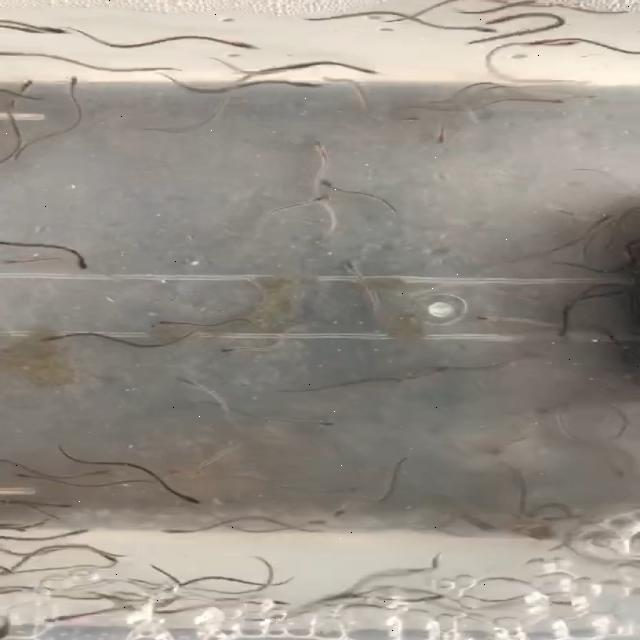active_glass_eel: (205, 32, 262, 54), (341, 62, 388, 81), (28, 22, 72, 38), (451, 20, 496, 35), (10, 74, 34, 102), (476, 12, 524, 26), (534, 36, 580, 50), (565, 90, 603, 106), (57, 76, 85, 96), (280, 78, 330, 89), (381, 112, 420, 126), (424, 126, 450, 146), (41, 330, 80, 343), (222, 344, 264, 356), (314, 178, 346, 193), (42, 612, 82, 624), (307, 137, 329, 158), (175, 375, 207, 389), (68, 255, 92, 272), (299, 416, 333, 428), (300, 194, 337, 205), (167, 469, 200, 481), (164, 527, 200, 538), (588, 213, 614, 228), (175, 492, 202, 506), (552, 204, 579, 218), (144, 317, 178, 328), (339, 260, 365, 274), (7, 522, 33, 536), (310, 518, 340, 530), (88, 467, 122, 477), (416, 594, 450, 604), (94, 550, 118, 564), (540, 96, 570, 107), (8, 472, 44, 481), (552, 322, 572, 338), (424, 364, 452, 375), (471, 314, 509, 322), (602, 238, 622, 253), (326, 506, 351, 518), (341, 484, 365, 496), (65, 526, 89, 538), (608, 467, 630, 479), (0, 256, 24, 266), (0, 562, 17, 576), (46, 502, 76, 509)
